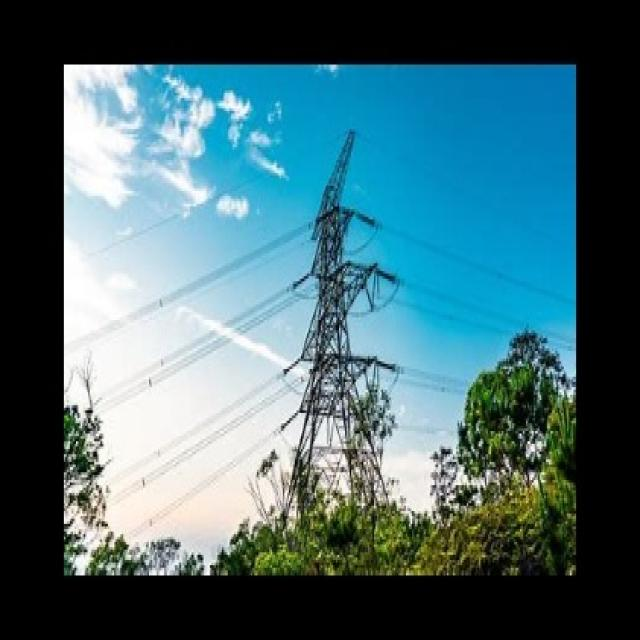utility poles: (436, 290, 552, 476), (321, 333, 408, 532)
